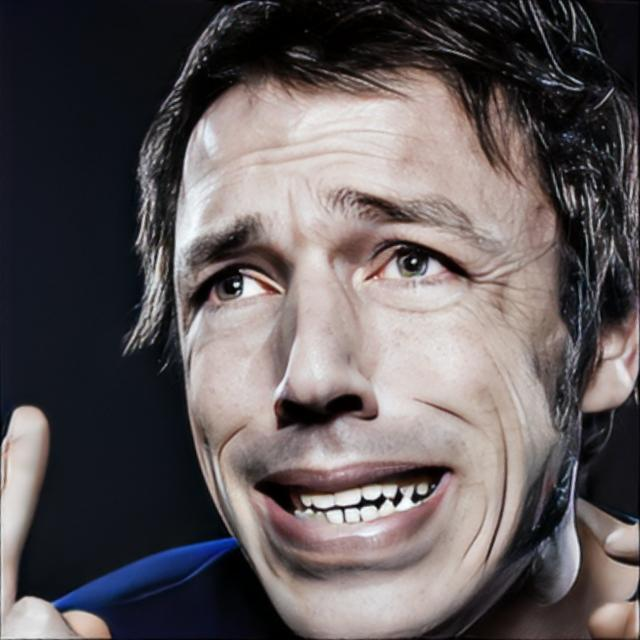fear: (172, 53, 558, 632)
